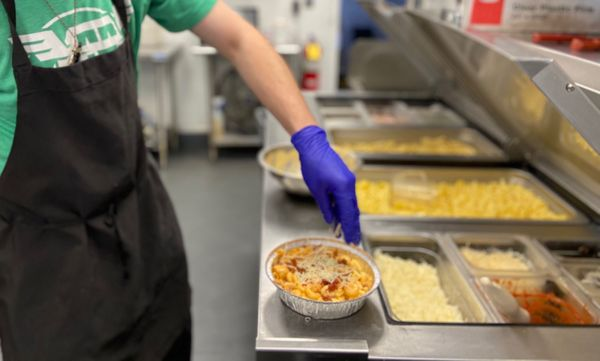sushi: (266, 238, 379, 320), (257, 145, 313, 199)
